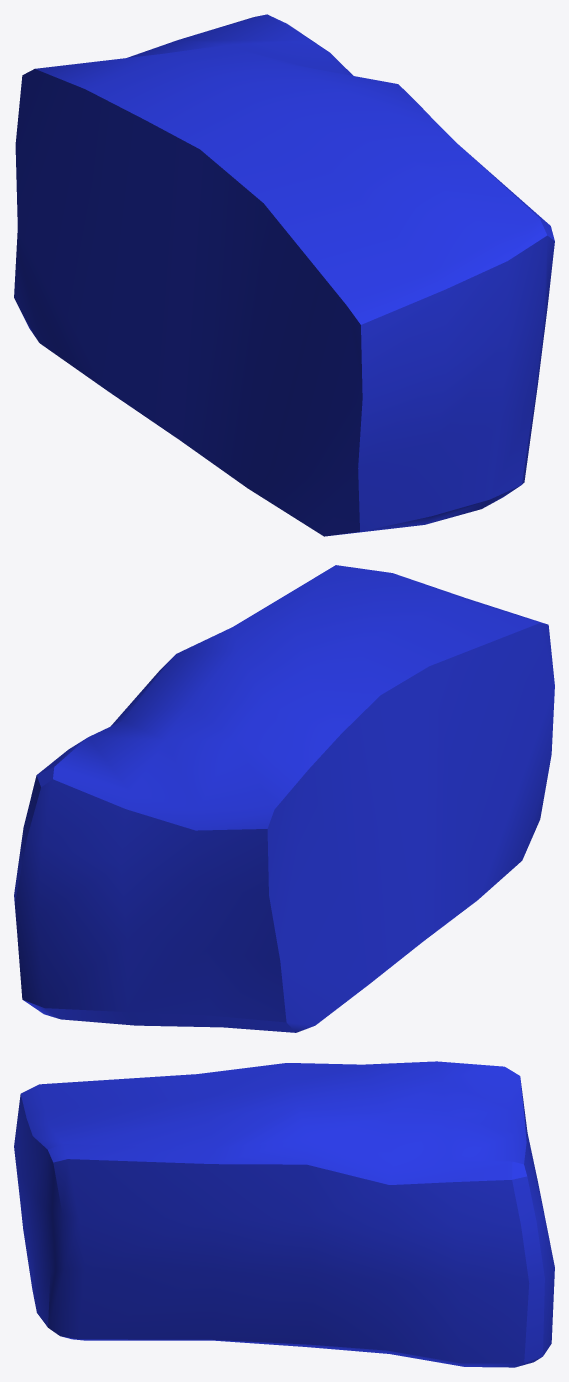
Rendered from veal_n1.2_low.fbx.
The picture shows the model from 3 angles, top to bottom: view 1: azimuth 30°, elevation 25°; view 2: azimuth 150°, elevation 25°; view 3: azimuth 270°, elevation 25°; orthographic projection. The views are drawn at different scales.
Parts seen in each view (by area): view 1: veal__n1.2_low; view 2: veal__n1.2_low; view 3: veal__n1.2_low.
Part boxes in pixels (left/top/right/bottom): veal__n1.2_low: left=14, top=14, right=554, bottom=536; veal__n1.2_low: left=14, top=565, right=554, bottom=1032; veal__n1.2_low: left=14, top=1061, right=554, bottom=1367.
Bounding box in the file's own units: 6.88 × 6.83 × 14.28.
